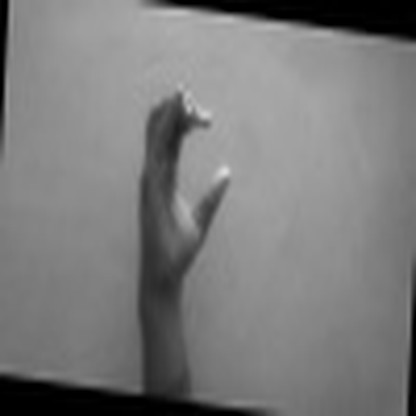c: (133, 82, 236, 282)
